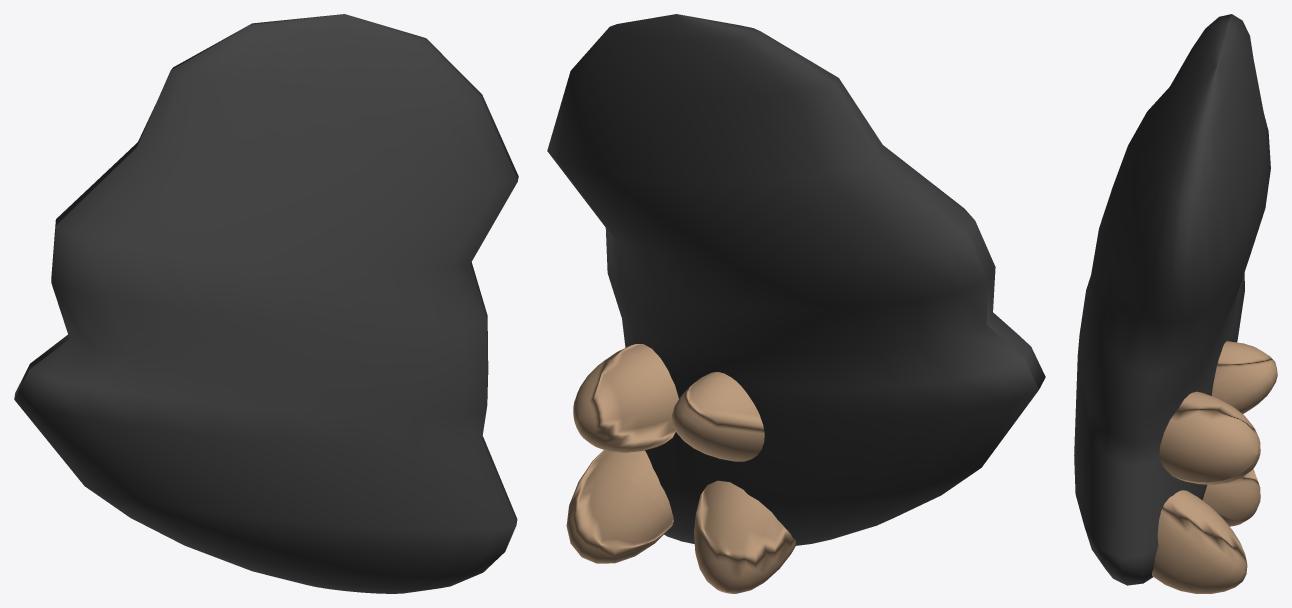
Rendered from hand_parrot.glb.
3 renders of one model, left to right at view 1: azimuth 30°, elevation 25°; view 2: azimuth 150°, elevation 25°; view 3: azimuth 270°, elevation 25°, orthographic. The views are drawn at different scales.
Visible parts, largest first — view 1: CombinedMesh_MaterialSlots; view 2: CombinedMesh_MaterialSlots; view 3: CombinedMesh_MaterialSlots.
Part boxes in pixels (x1,y1,x2,y2): CombinedMesh_MaterialSlots: [14, 14, 518, 593]; CombinedMesh_MaterialSlots: [547, 14, 1045, 593]; CombinedMesh_MaterialSlots: [1074, 14, 1277, 593].
Size of the model in its own units: 3.7 by 4.03 by 1.49.
